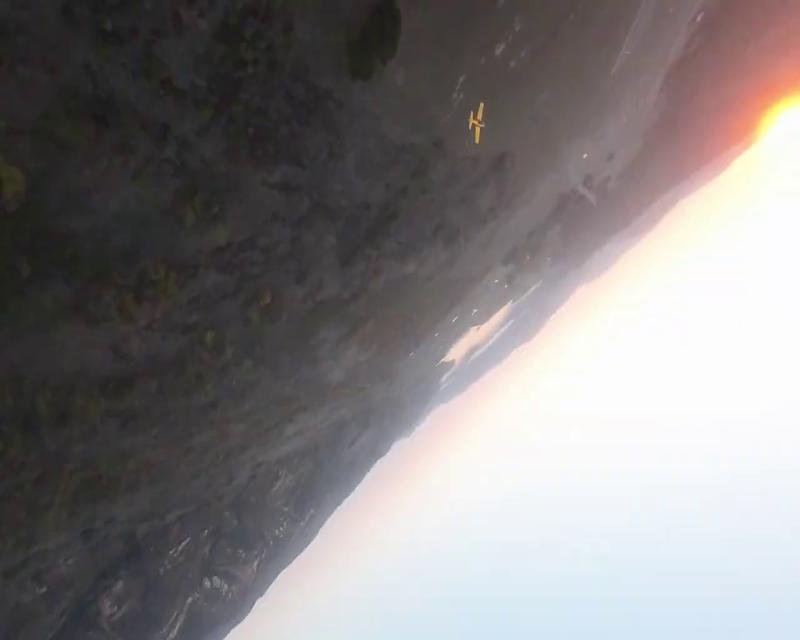UAV: (468, 102, 486, 144)
